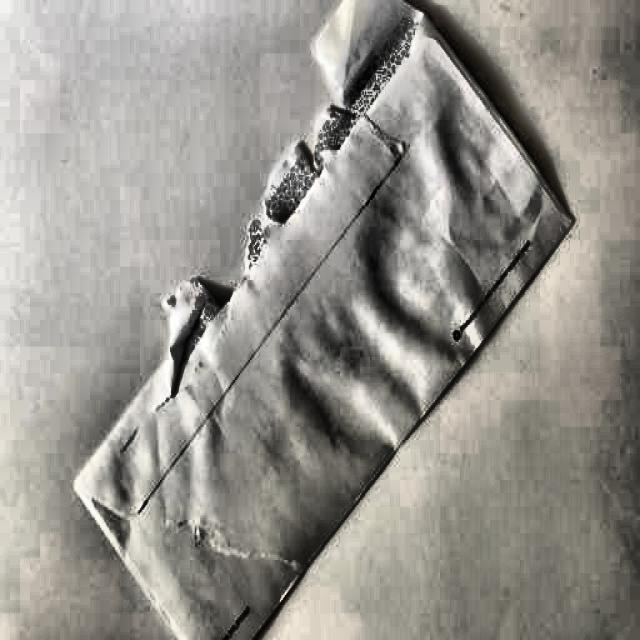paper: (90, 0, 569, 640)
